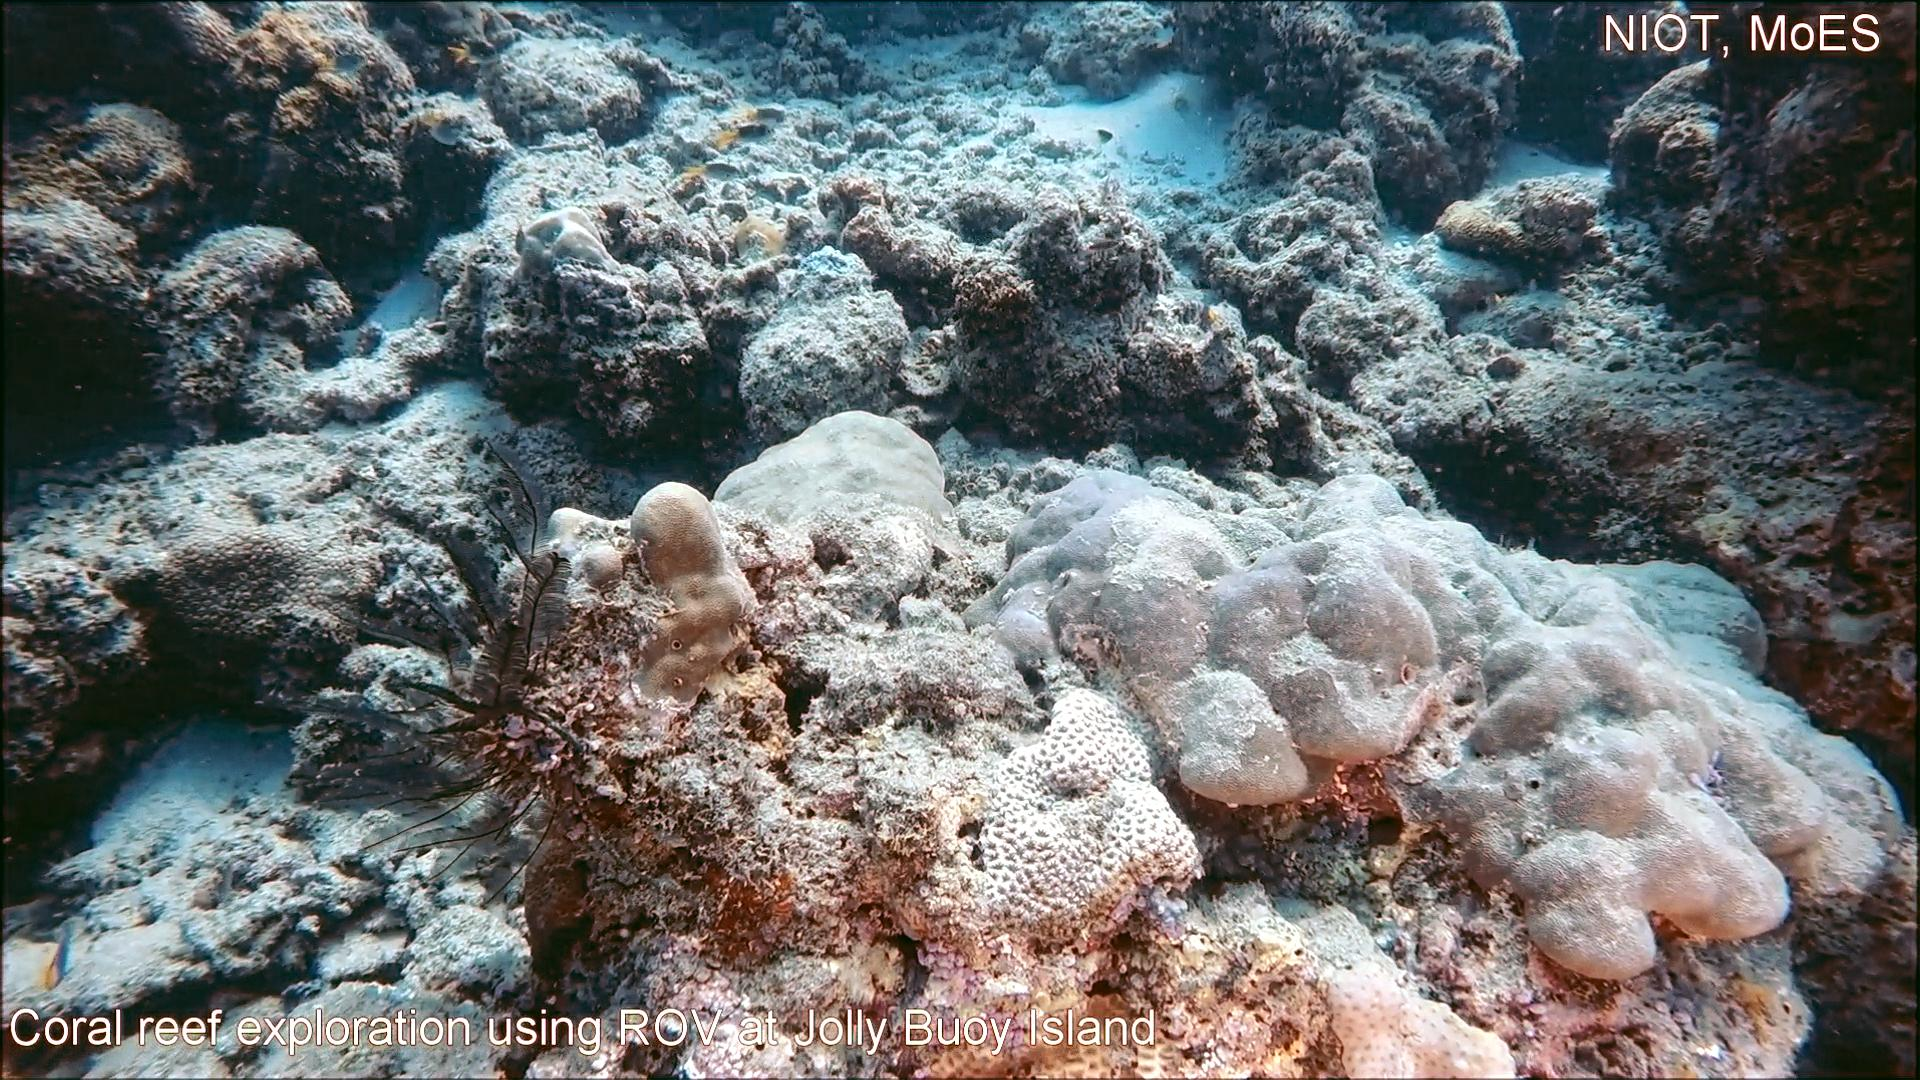Feather star-Crinoid star: (248, 426, 607, 922)
Goniastrea-Goniastrea pectinata: (971, 680, 1215, 969)
Porites-Porites pukoensis: (1304, 464, 1920, 993)
Turbinaria-Turbinaria stellulata: (142, 518, 382, 671)
